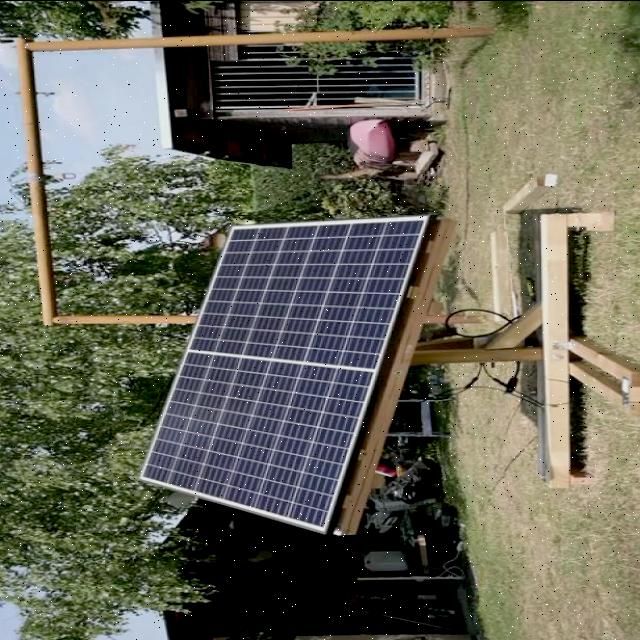Normal Solar Panel: (141, 215, 429, 532)
